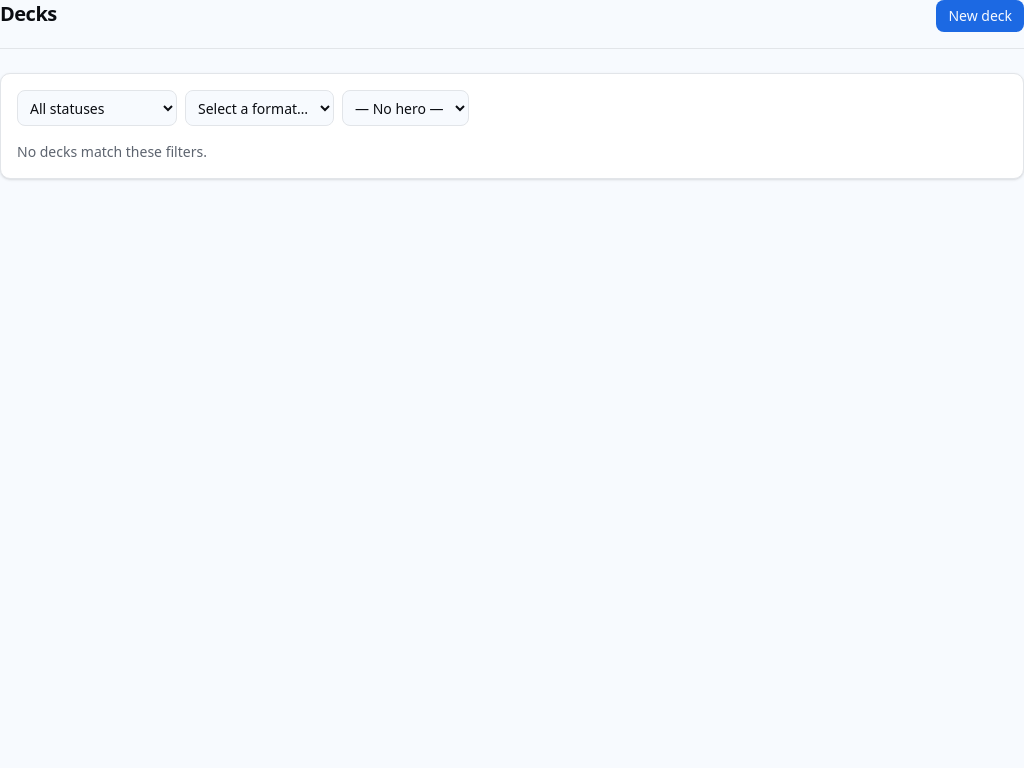
DecksPage › opens the deck create form in a modal dialog on 'New deck'
Click the button "New deck" at point(980, 16), box left=936, top=0, right=1023, bottom=32
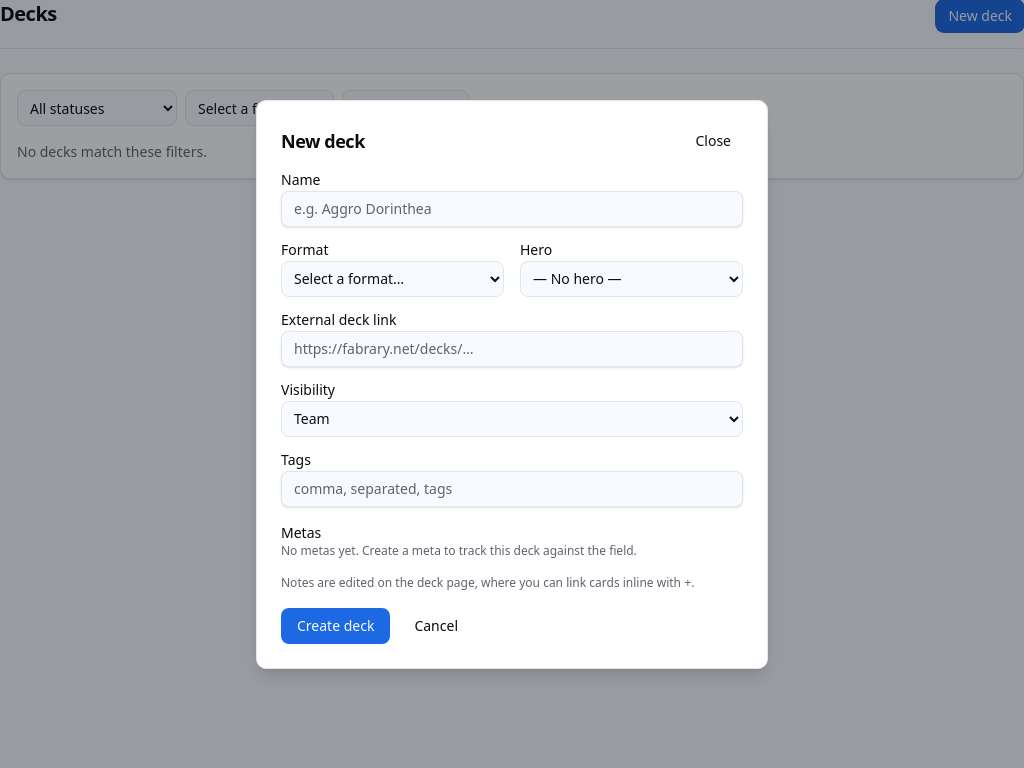
Expected: the field labelled "Name" is shown, left=281, top=190, right=743, bottom=226
Expected: the button "Create deck" is shown, left=281, top=608, right=390, bottom=644
